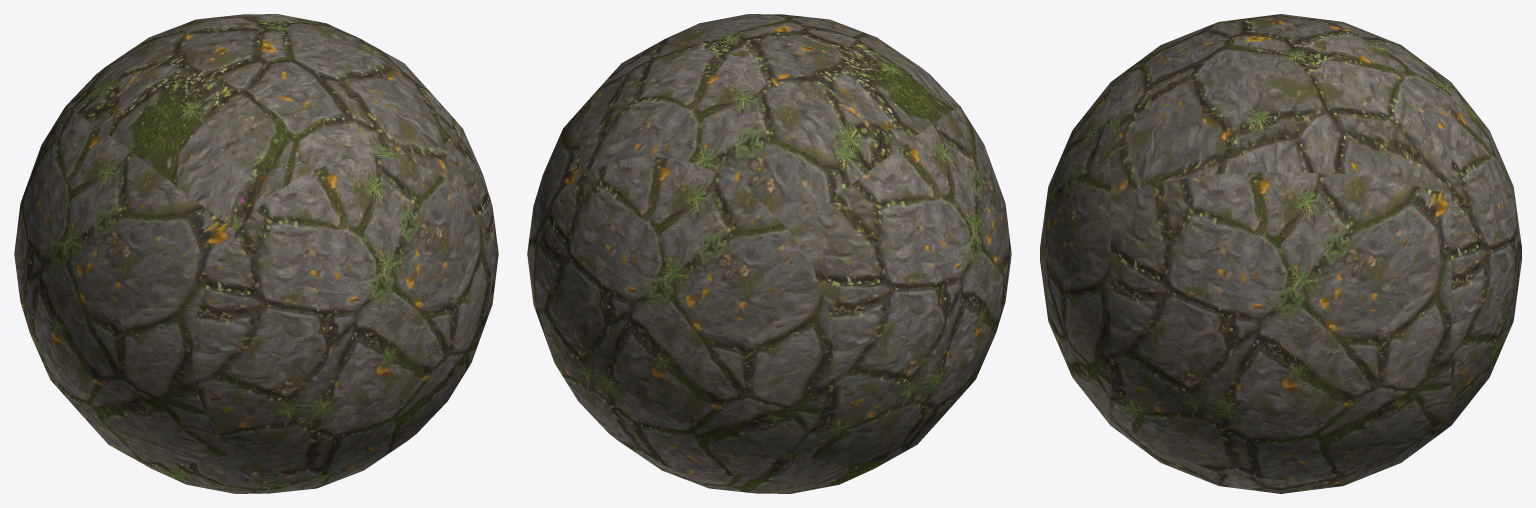
File: Boulder.fbx
3 renders of one model, left to right at view 1: azimuth 30°, elevation 25°; view 2: azimuth 150°, elevation 25°; view 3: azimuth 270°, elevation 25°, orthographic.
Parts seen in each view (by area): view 1: sphere_full_0; view 2: sphere_full_0; view 3: sphere_full_0.
Boxes of the visible parts, left/top/right/bottom form: sphere_full_0: left=14, top=14, right=498, bottom=493; sphere_full_0: left=527, top=14, right=1011, bottom=493; sphere_full_0: left=1040, top=14, right=1521, bottom=493.
Bounding box in the file's own units: 10 × 10 × 10.
